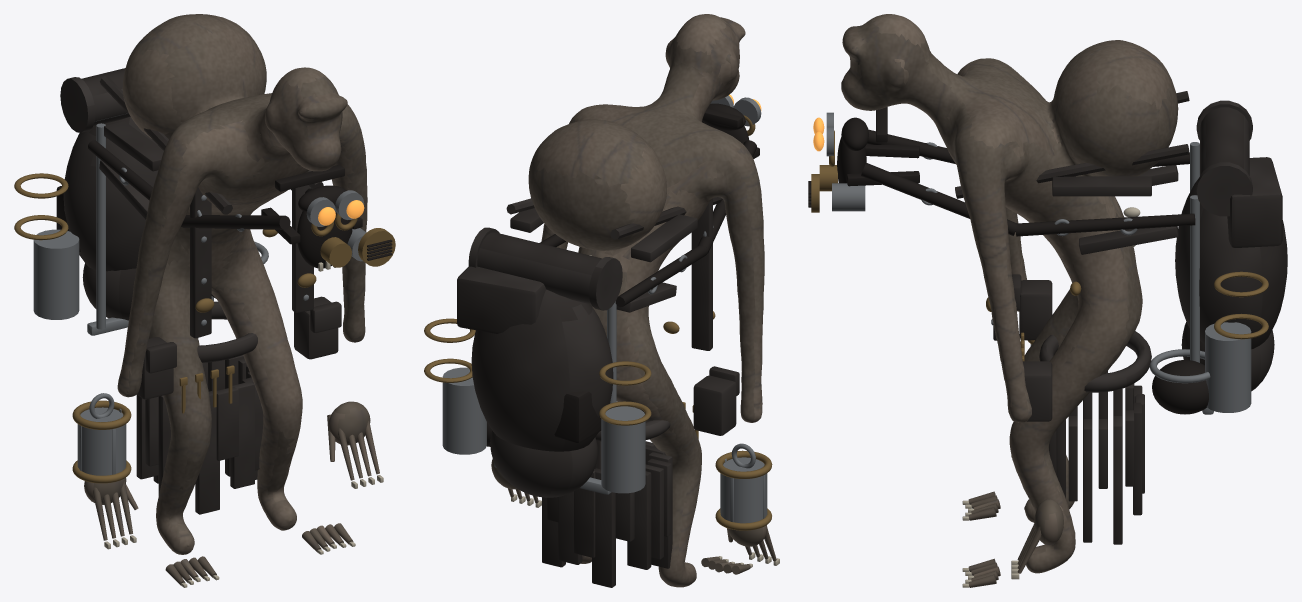
File: collector_creature_v4.glb
3 renders of one model, left to right at view 1: azimuth 30°, elevation 25°; view 2: azimuth 150°, elevation 25°; view 3: azimuth 270°, elevation 25°, orthographic. The views are drawn at different scales.
Parts seen in each view (by area): view 1: V4_Body, V4_PackSack, V4_PackDrum_-1, V4_Harness_-1, V4_LanternBody, V4_Loin_08, V4_PackFrame_-1, V4_PackSackLow, V4_Loin_10, V4_Pouch_1, V4_Loin_09, V4_PackRollCap_-1 (+26 smaller); view 2: V4_Body, V4_PackSack, V4_PackRoll, V4_PackBoxA, V4_PackSackLow, V4_PackDrum_-1, V4_PackDrum_1, V4_Harness_-1, V4_Pouch_-1, V4_LanternBody, V4_Loin_17, V4_PackBoxB (+26 smaller); view 3: V4_Body, V4_PackSack, V4_PackBoxA, V4_PackDrum_1, V4_PackRoll, V4_HoseB_1, V4_Pot, V4_PackRollCap_1, V4_ShoulderStrap_1, V4_Belt, V4_HoseA_1, V4_Pouch_-1 (+21 smaller).
Boxes of the visible parts, box(x1,y1,x2,y2) form: V4_Body: box(117, 14, 367, 554); V4_PackSack: box(63, 116, 158, 271); V4_PackDrum_-1: box(33, 229, 79, 319); V4_Harness_-1: box(190, 187, 211, 338); V4_LanternBody: box(77, 407, 126, 475); V4_Loin_08: box(230, 381, 254, 488); V4_PackFrame_-1: box(96, 123, 105, 329); V4_PackSackLow: box(82, 263, 136, 320); V4_Loin_10: box(195, 390, 219, 514); V4_Pouch_1: box(294, 296, 338, 359); V4_Loin_09: box(216, 387, 238, 460); V4_PackRollCap_-1: box(60, 77, 95, 132); V4_Body: box(528, 14, 764, 587); V4_PackSack: box(471, 289, 613, 451); V4_PackRoll: box(477, 232, 602, 304); V4_PackBoxA: box(457, 266, 545, 333); V4_PackSackLow: box(490, 430, 597, 497); V4_PackDrum_-1: box(601, 406, 645, 493); V4_PackDrum_1: box(442, 367, 486, 454); V4_Harness_-1: box(691, 198, 712, 350); V4_Pouch_-1: box(693, 375, 736, 435); V4_LanternBody: box(720, 457, 767, 523); V4_Loin_17: box(592, 468, 615, 587); V4_PackBoxB: box(554, 391, 601, 442); V4_Body: box(841, 14, 1178, 573); V4_PackSack: box(1175, 179, 1287, 349); V4_PackBoxA: box(1227, 157, 1282, 247); V4_PackDrum_1: box(1205, 322, 1251, 412); V4_PackRoll: box(1200, 107, 1249, 175); V4_HoseB_1: box(1015, 213, 1195, 236); V4_Pot: box(1152, 360, 1208, 414); V4_PackRollCap_1: box(1196, 162, 1252, 216); V4_ShoulderStrap_1: box(1052, 176, 1151, 196); V4_Belt: box(1039, 331, 1151, 392); V4_HoseA_1: box(861, 162, 1016, 235); V4_Pouch_-1: box(1019, 280, 1052, 340).
Size of the model in its own units: 1.02 by 1.77 by 1.45.
8 materials, 3 textured.
